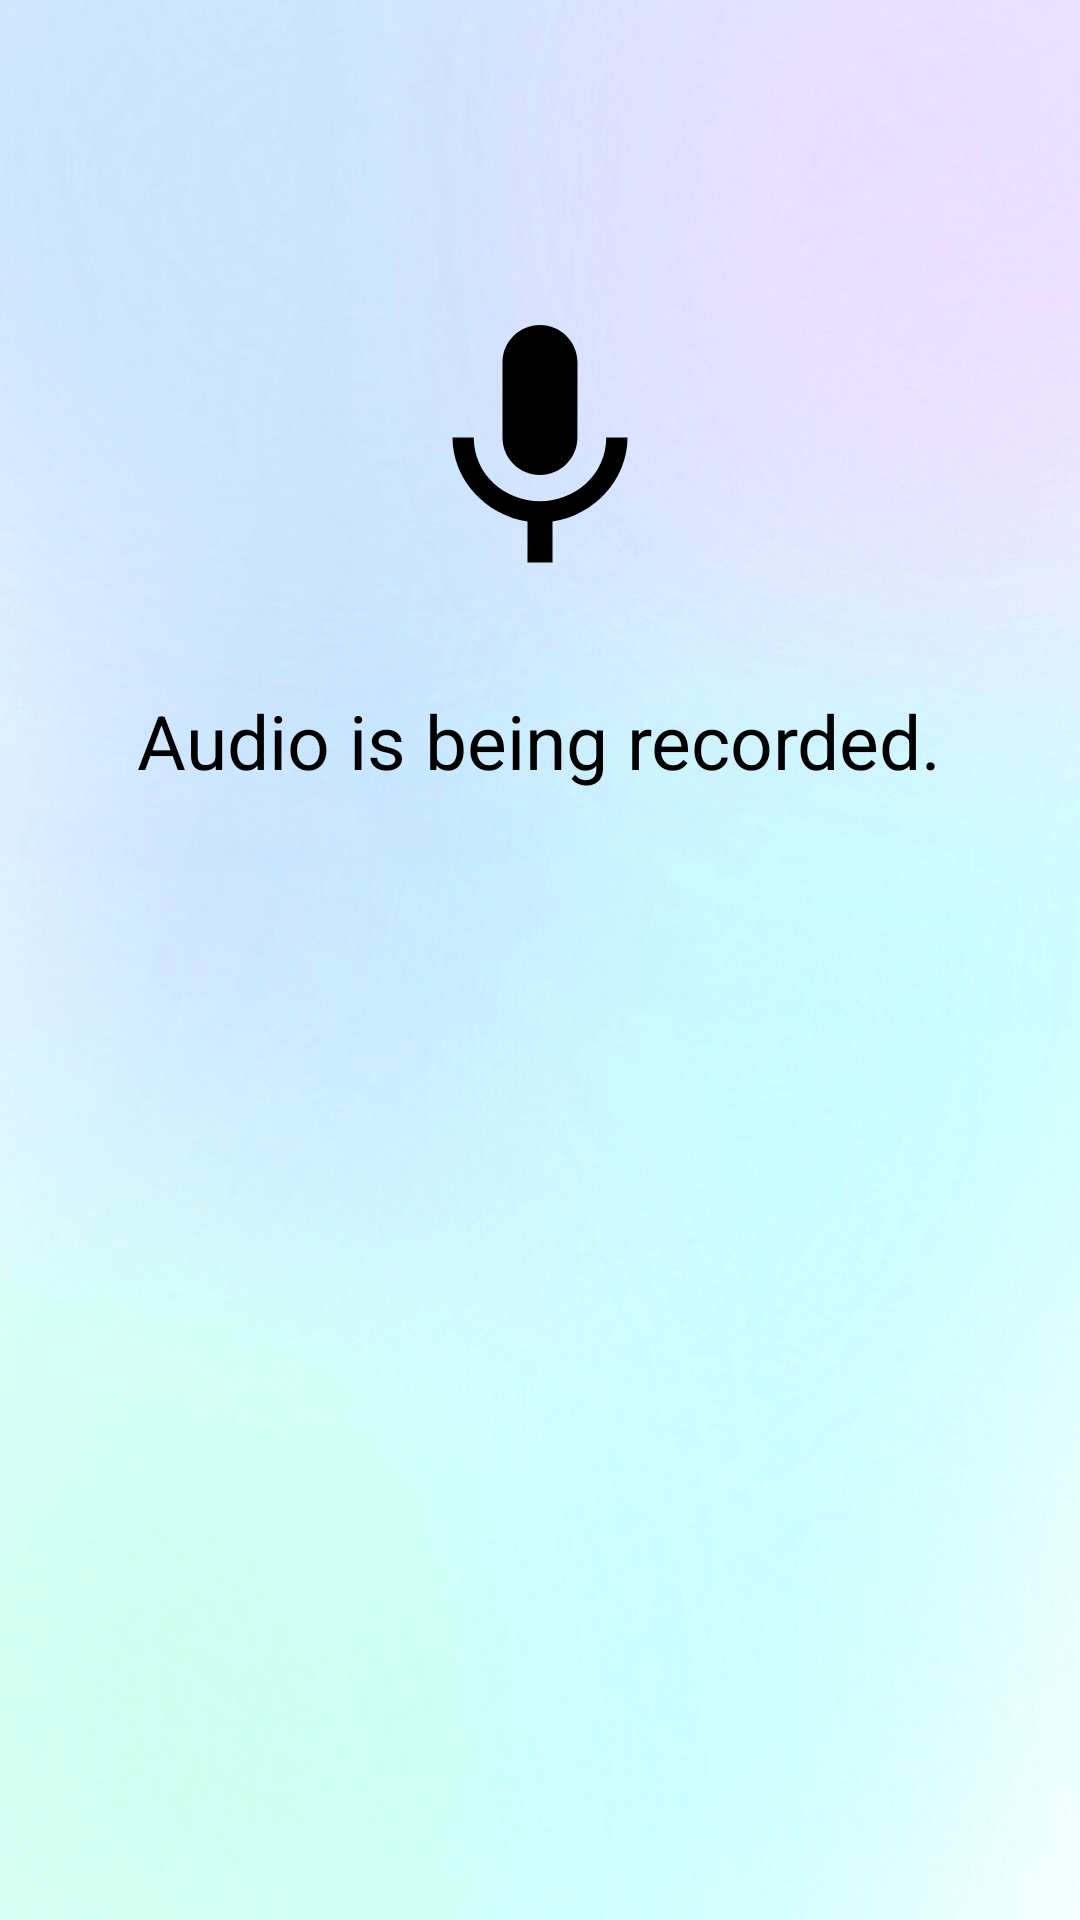

Locate icon controls on the screen. Image size 1080 x 1920, boxes as (x1, y1, x2, y2).
mic: (452, 325, 628, 563)
